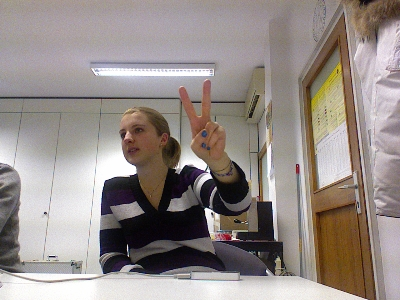剪刀: (177, 78, 225, 164)
